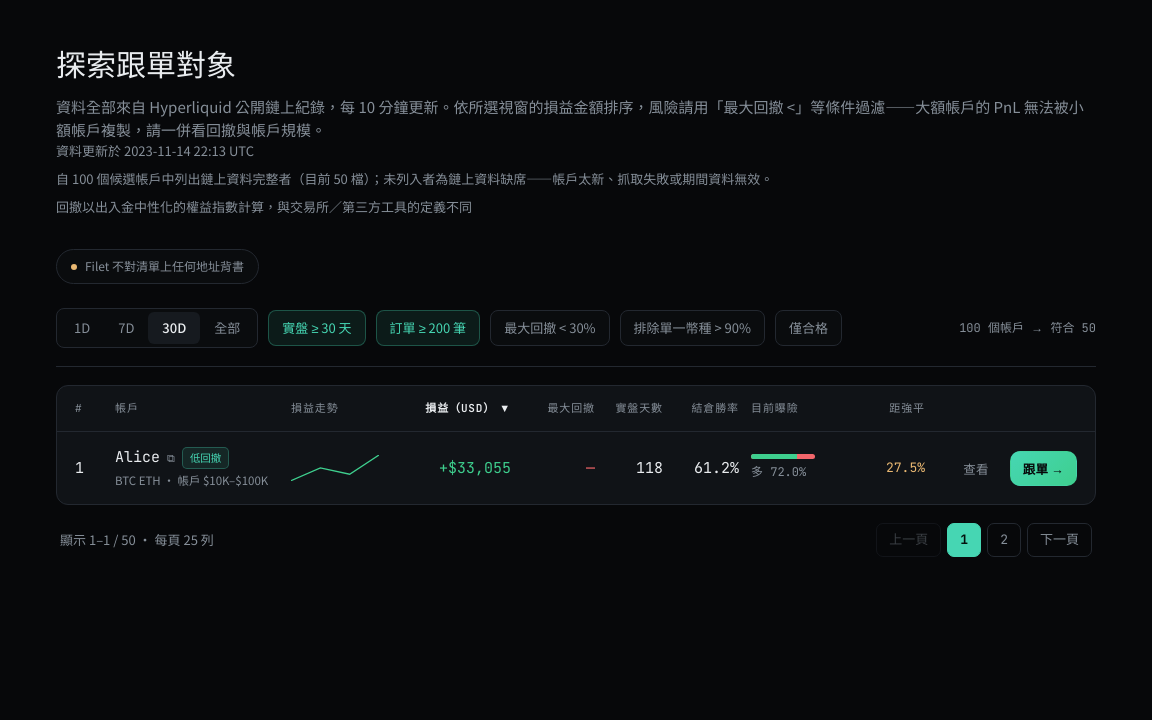
it: ExplorePage — 分頁 › 點「下一頁」→ 打 API 帶新的 page 參數並渲染新一頁資料
expect the link "Alice" is shown: met, box [115,446,160,470]
Click the button "下一頁": (1060, 540) [1027,523,1092,557]
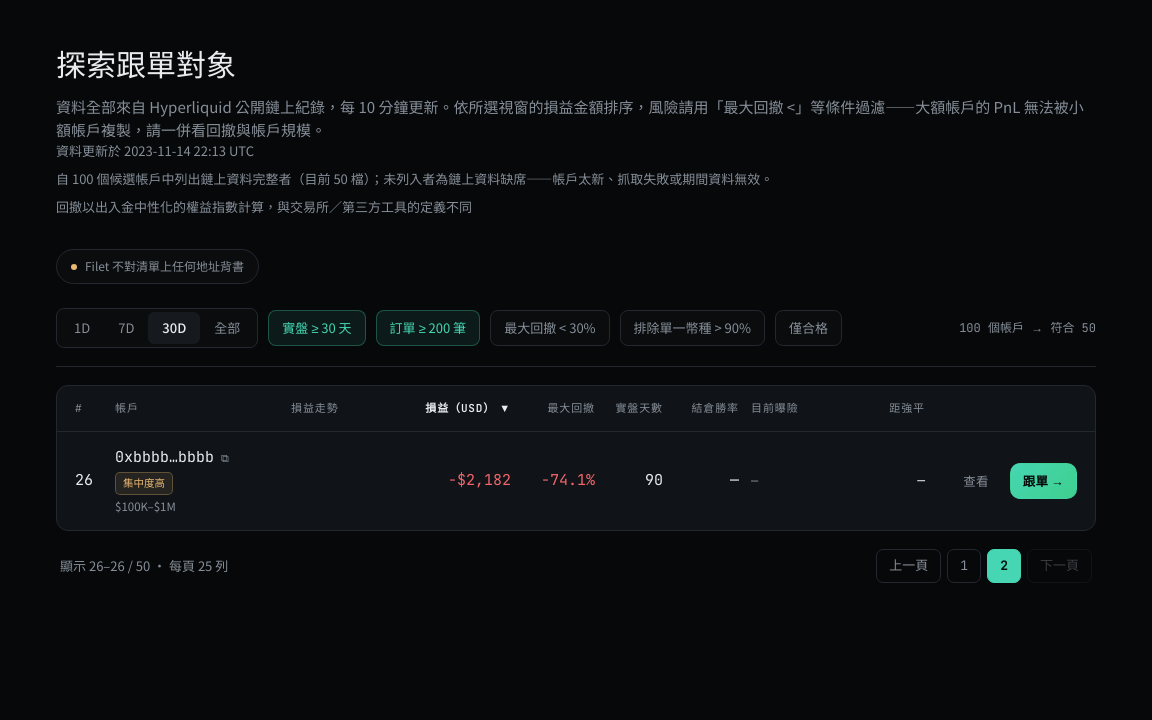
expect the link "0xbbbb…bbbb" is shown: met, box [115,446,214,470]
expect the link "Alice" is gone: met
